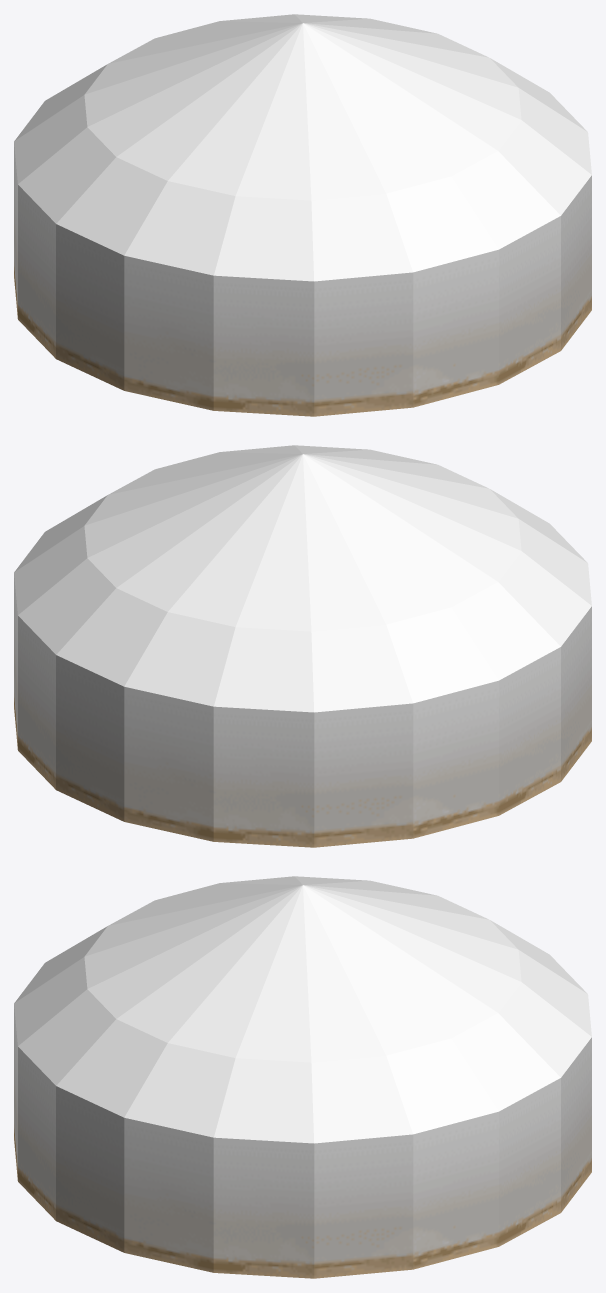
3 views of the same model, one above another, from view 1: azimuth 30°, elevation 25°; view 2: azimuth 150°, elevation 25°; view 3: azimuth 270°, elevation 25° (orthographic).
Visible parts, largest first — view 1: mesh00; view 2: mesh00; view 3: mesh00.
Boxes of the visible parts, x1,y1,x2,y2 form: mesh00: [14, 14, 591, 416]; mesh00: [14, 445, 591, 847]; mesh00: [14, 876, 591, 1278].
Size of the model in its own units: 105923 by 63152 by 105019.
